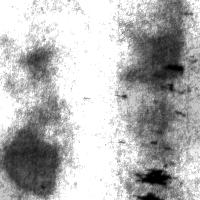patches: (116, 32, 200, 154), (127, 6, 188, 95), (1, 115, 62, 197), (0, 129, 45, 200), (18, 43, 52, 82), (135, 167, 174, 198)
